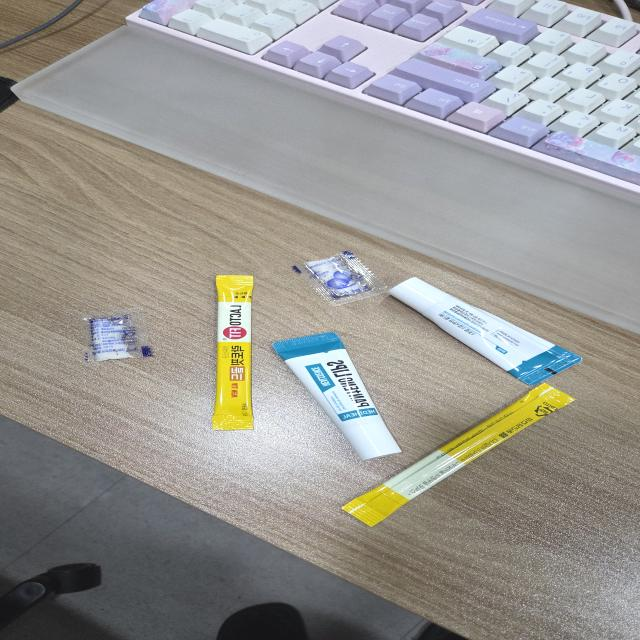lacto: (339, 383, 575, 526), (211, 275, 254, 430)
lib: (385, 275, 584, 385), (274, 331, 407, 462)
salt: (286, 248, 379, 310), (75, 306, 153, 368)
